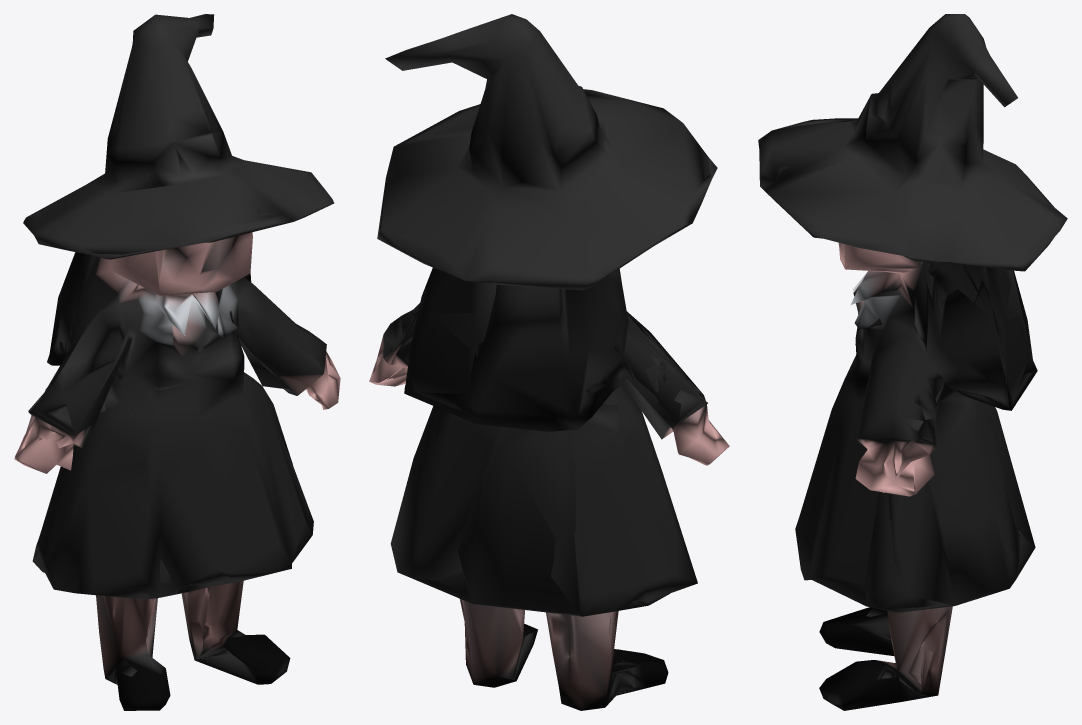
Rendered from gen3d-witch-lod0.glb.
3 views of the same model, side by side, from view 1: azimuth 30°, elevation 25°; view 2: azimuth 150°, elevation 25°; view 3: azimuth 270°, elevation 25° (orthographic). The views are drawn at different scales.
Parts seen in each view (by area): view 1: part_0; view 2: part_0; view 3: part_0.
Part boxes in pixels (x1,y1,x2,y2): part_0: (14,14,340,710); part_0: (369,14,729,710); part_0: (758,14,1067,710).
Size of the model in its own units: 0.5321 by 0.9997 by 0.4243.
